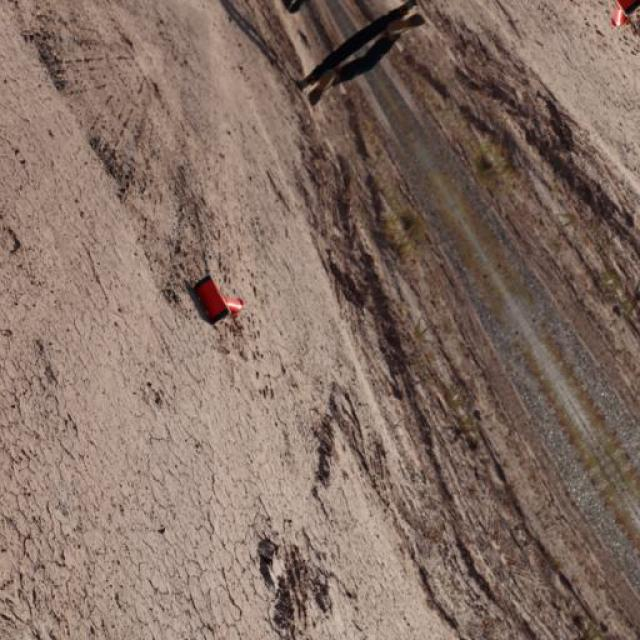mallet: (191, 272, 244, 324)
